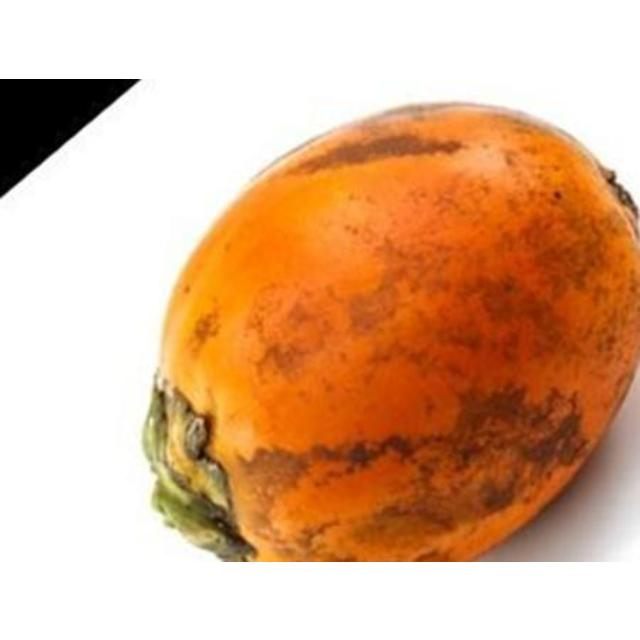good: (139, 102, 639, 560)
